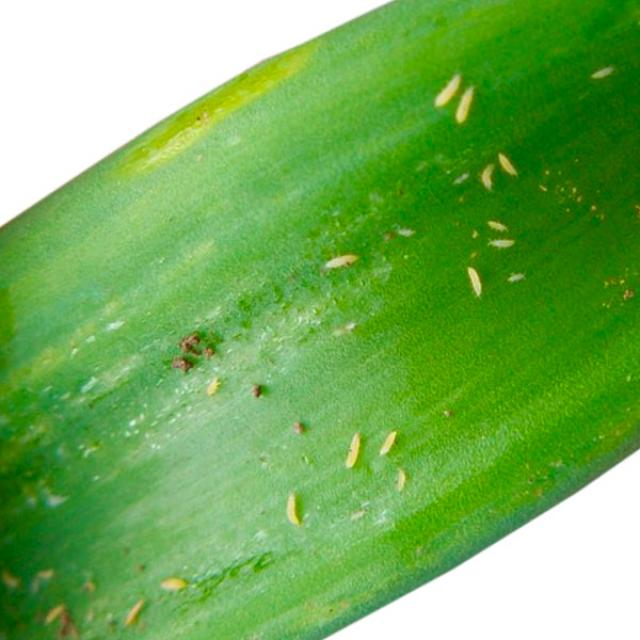Thrip-Larva-: (452, 80, 482, 126), (341, 427, 368, 472), (277, 490, 309, 527), (431, 71, 463, 106), (323, 244, 362, 269), (40, 602, 74, 630), (120, 598, 146, 633), (388, 462, 416, 494), (494, 144, 519, 177), (374, 427, 398, 461), (584, 60, 624, 80), (464, 262, 484, 301), (474, 161, 498, 191), (482, 231, 522, 248), (157, 574, 196, 590), (205, 374, 225, 404), (503, 264, 529, 286), (484, 216, 512, 233)
